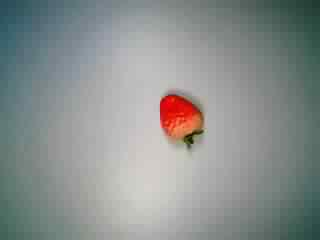strawberry: (147, 91, 215, 155)
